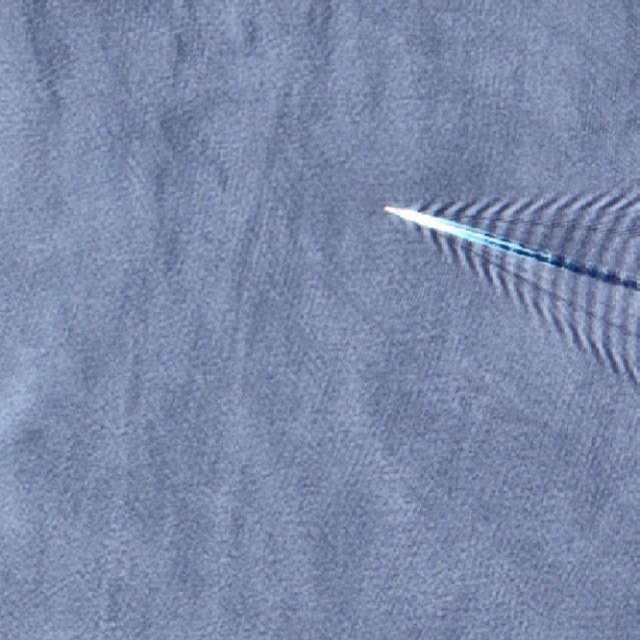wake: (357, 137, 618, 337)
